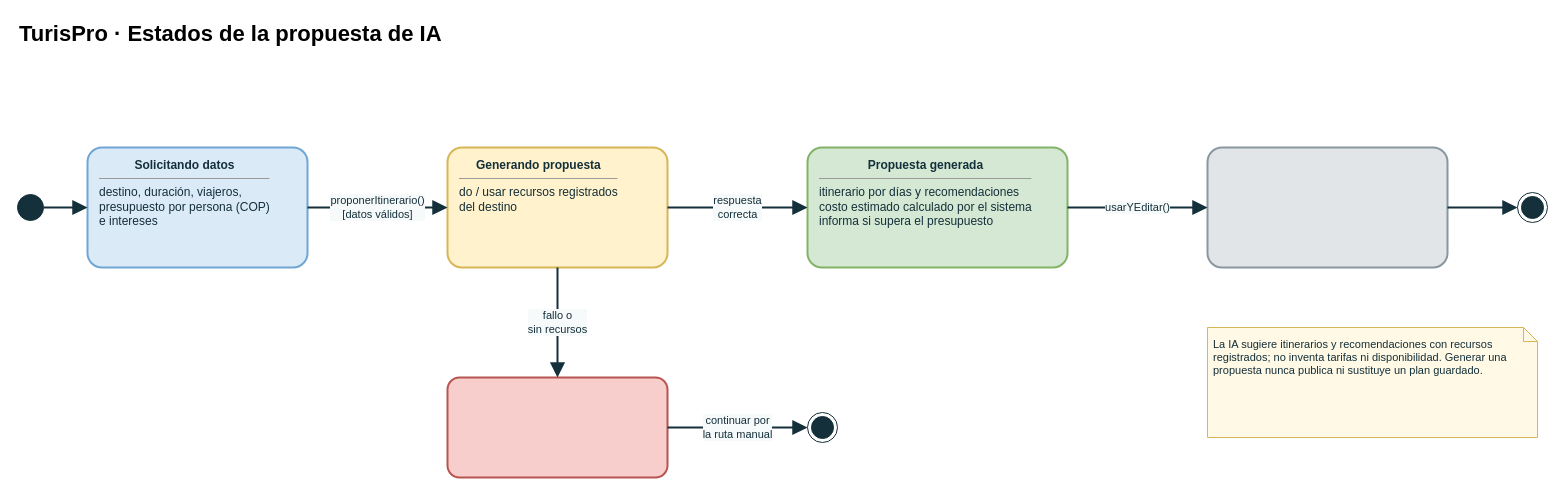
The diagram is 1565 pixels wide and 495 high, and some of its shapes have lost their labels. Each missing label, with the box of its shape:
Adoptada se guarda como plan en Borrador y se edita en el editor común: (1206, 146, 1448, 268)
Sin resultado fallo del servicio o faltan recursos del destino: (446, 376, 668, 478)
